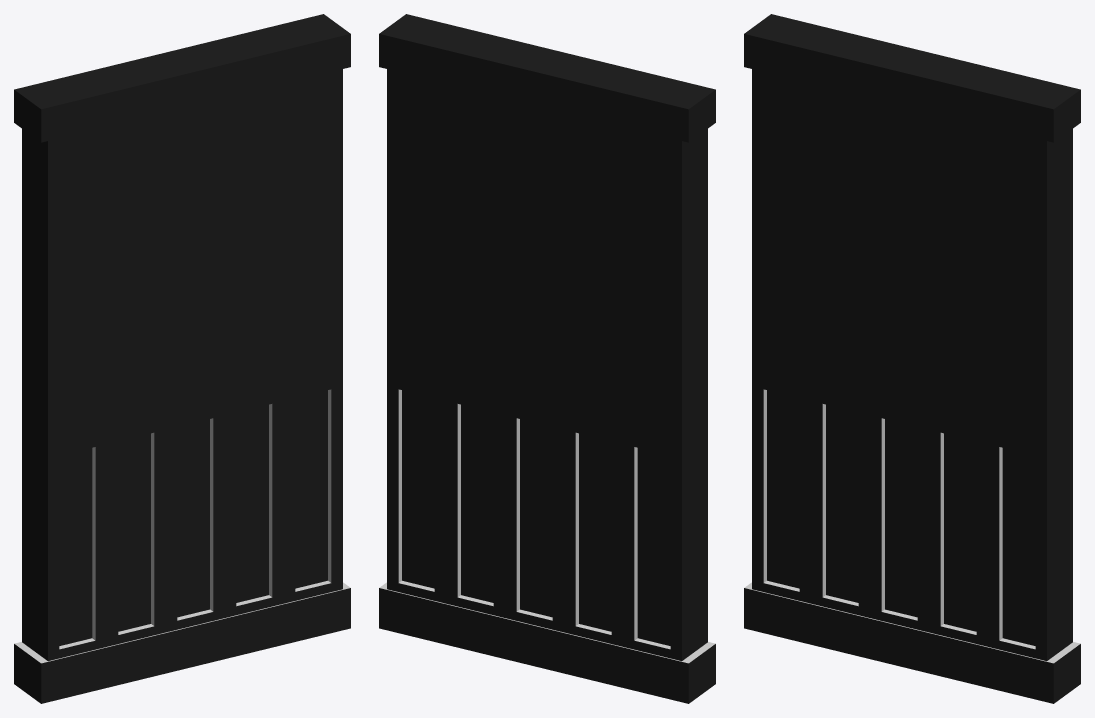
The model's file is Door.fbx.
3 views of the same model, side by side, from view 1: azimuth 30°, elevation 25°; view 2: azimuth 150°, elevation 25°; view 3: azimuth 330°, elevation 25° (orthographic).
Visible parts, largest first — view 1: Cube; view 2: Cube; view 3: Cube.
Boxes of the visible parts, x1,y1,x2,y2 form: Cube: (14, 14, 350, 703); Cube: (379, 14, 715, 703); Cube: (744, 14, 1080, 703).
Size of the model in its own units: 326 by 598 by 49.34.
